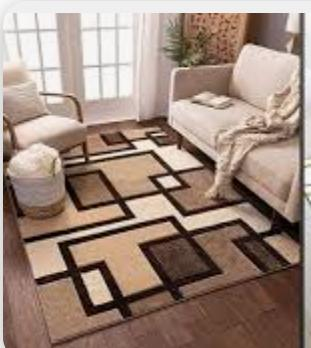carpet: (0, 77, 306, 348)
